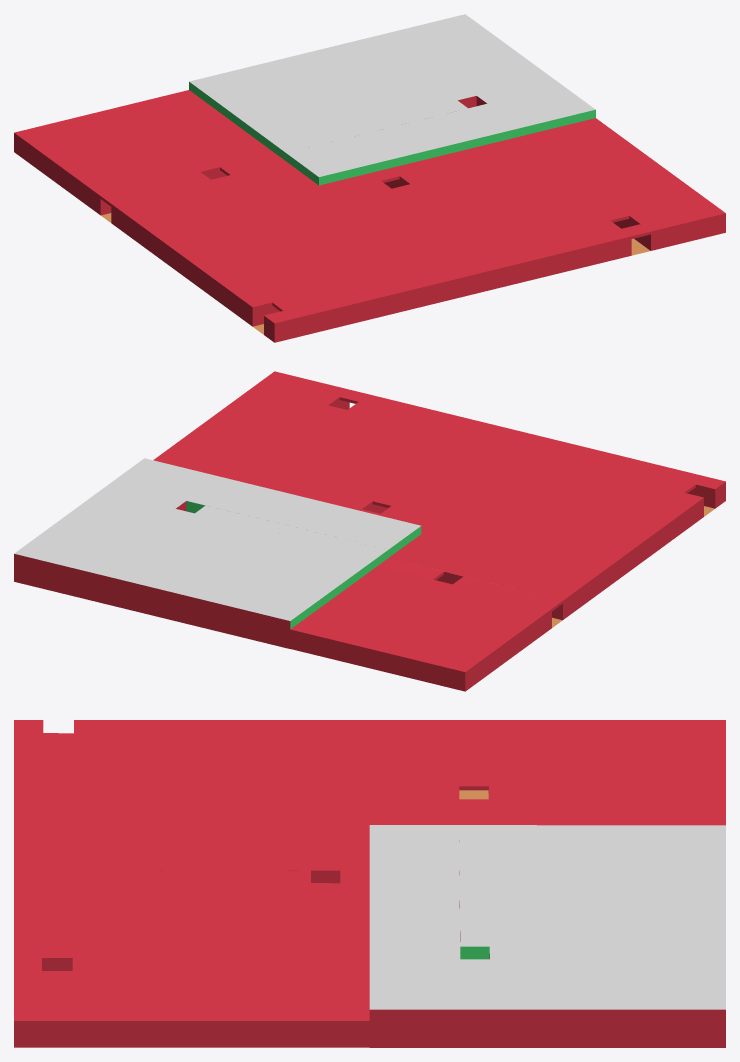
File: groundtex.fbx
3 views of the same model, one above another, from view 1: azimuth 30°, elevation 25°; view 2: azimuth 150°, elevation 25°; view 3: azimuth 270°, elevation 25° (orthographic). The views are drawn at different scales.
Parts seen in each view (by area): view 1: Plane; view 2: Plane; view 3: Plane.
Boxes of the visible parts, <box> form: Plane: <box>14,14,725,342</box>; Plane: <box>14,371,725,691</box>; Plane: <box>14,720,725,1047</box>.
Size of the model in its own units: 24000 by 1424 by 24000.
